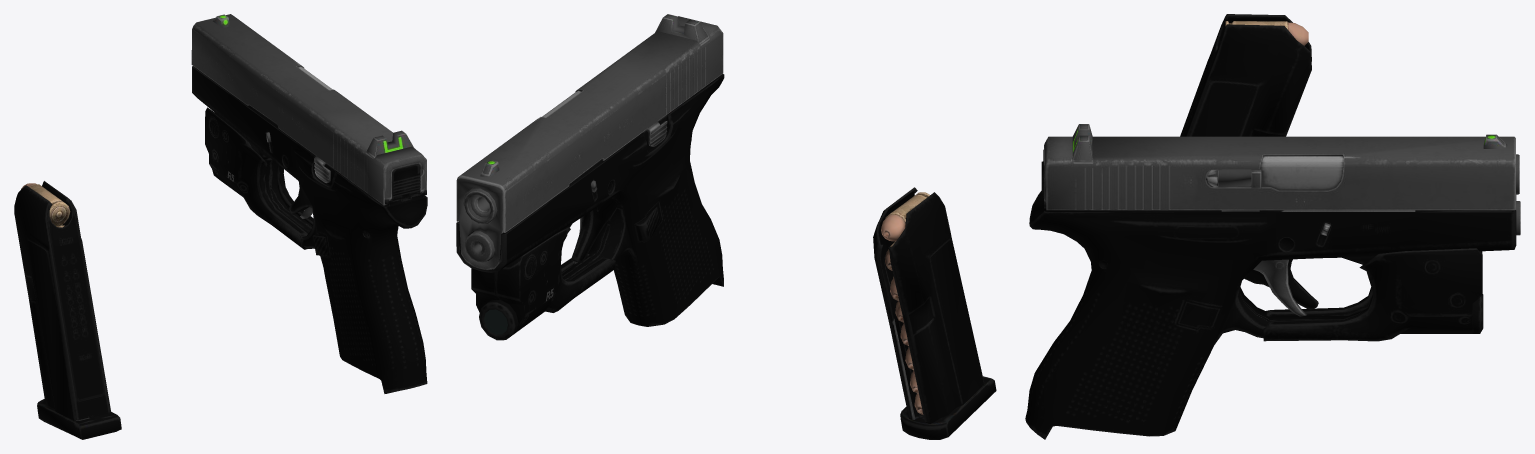
File: glock.glb
3 renders of one model, left to right at view 1: azimuth 30°, elevation 25°; view 2: azimuth 150°, elevation 25°; view 3: azimuth 270°, elevation 25°, orthographic. The views are drawn at different scales.
Parts seen in each view (by area): view 1: glock_low, perederg_low, magaz_low, add_low, parts_low, targets_low, bullets_low; view 2: glock_low, perederg_low, magaz_low, add_low, parts_low, bullets_low, stwol_low, targets_low; view 3: glock_low, perederg_low, add_low, magaz_low, zatwor_low, parts_low, kruk_low, targets_low, bullets_low.
Part boxes in pixels (bbox=[...]): glock_low: bbox=[192, 66, 427, 393]; perederg_low: bbox=[191, 14, 426, 205]; magaz_low: bbox=[14, 181, 121, 439]; add_low: bbox=[205, 107, 313, 249]; parts_low: bbox=[265, 132, 330, 256]; targets_low: bbox=[213, 14, 413, 158]; bullets_low: bbox=[21, 183, 70, 227]; glock_low: bbox=[456, 74, 724, 326]; perederg_low: bbox=[456, 16, 723, 269]; magaz_low: bbox=[873, 187, 996, 439]; add_low: bbox=[471, 227, 615, 340]; parts_low: bbox=[571, 121, 667, 262]; bullets_low: bbox=[881, 192, 929, 414]; stwol_low: bbox=[463, 188, 503, 262]; targets_low: bbox=[480, 14, 709, 178]; glock_low: bbox=[1025, 149, 1516, 439]; perederg_low: bbox=[1044, 136, 1515, 239]; add_low: bbox=[1263, 248, 1483, 341]; magaz_low: bbox=[1180, 14, 1311, 136]; zatwor_low: bbox=[1206, 156, 1343, 211]; parts_low: bbox=[1218, 169, 1330, 310]; kruk_low: bbox=[1253, 259, 1307, 316]; targets_low: bbox=[1072, 124, 1507, 162]; bullets_low: bbox=[1225, 21, 1308, 45].
Bounding box in the file's own units: 439 × 337 × 483.
Materials: 1 (1 with a texture image).
